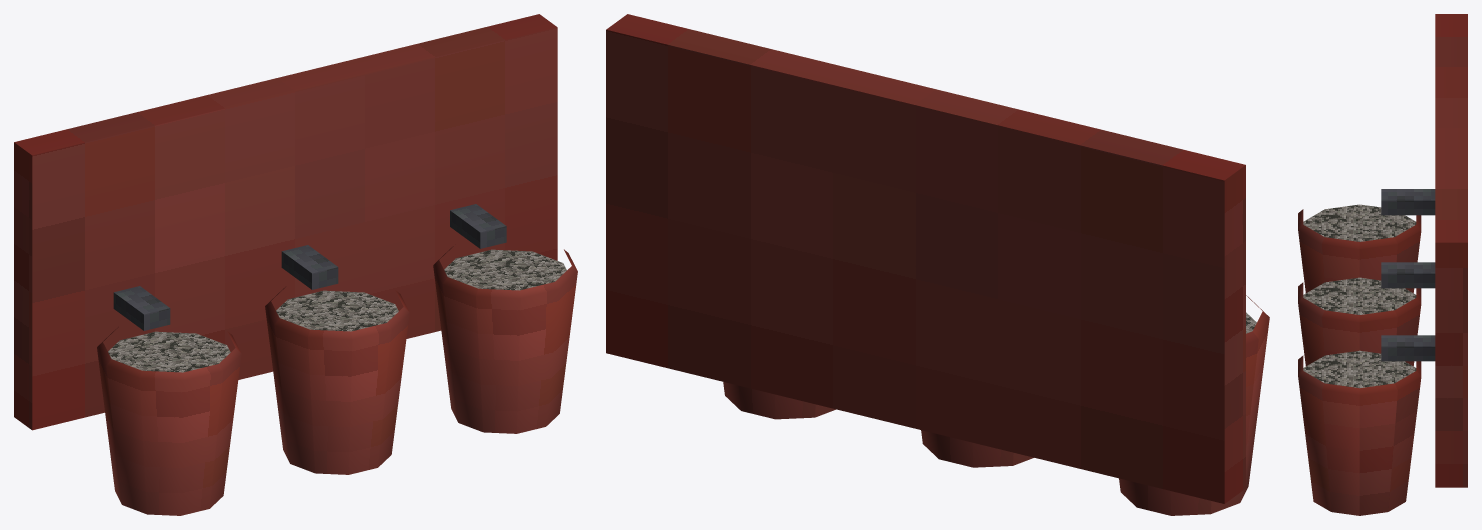
Rendered from fire_buckets.glb.
3 renders of one model, left to right at view 1: azimuth 30°, elevation 25°; view 2: azimuth 150°, elevation 25°; view 3: azimuth 270°, elevation 25°, orthographic. The views are drawn at different scales.
Visible parts, largest first — view 1: fire_buckets; view 2: fire_buckets; view 3: fire_buckets.
Boxes of the visible parts, bbox=[...] form: fire_buckets: bbox=[14, 14, 577, 515]; fire_buckets: bbox=[606, 14, 1269, 515]; fire_buckets: bbox=[1298, 14, 1467, 515].
Size of the model in its own units: 1 by 0.6 by 0.3141.
1 material, 1 textured.
